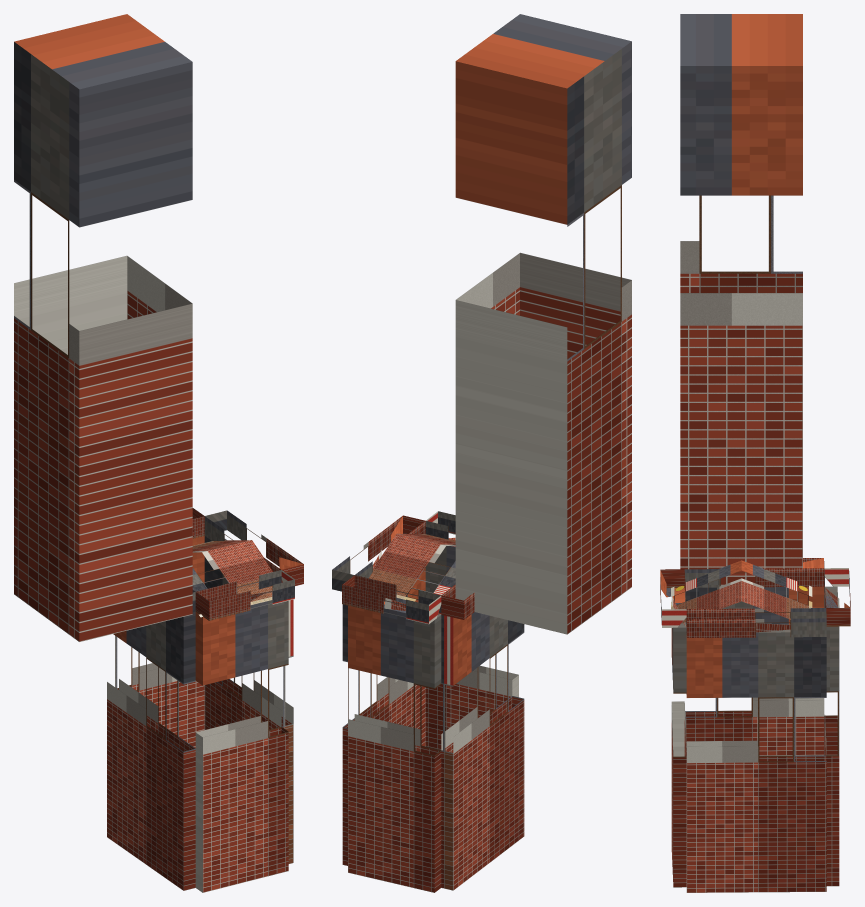
The picture shows the model from 3 angles, left to right: view 1: azimuth 30°, elevation 25°; view 2: azimuth 150°, elevation 25°; view 3: azimuth 270°, elevation 25°; orthographic projection. The views are drawn at different scales.
Parts seen in each view (by area): view 1: 1106965478__chimney_0_xb, 1106965478__wall_0_xb, 1106965478__wall_1_xb, 1106965478__wall_3_xb, 1106965478__wall_2_xb, 1106965478_roof_-1_xb, 1106965478__cornice_0, 1106965478__cornice_3; view 2: 1106965478__chimney_0_xb, 1106965478__wall_2_xb, 1106965478__wall_1_xb, 1106965478__wall_0_xb, 1106965478__wall_3_xb, 1106965478_roof_1_xb, 1106965478__cornice_2, 1106965478__cornice_3, 1106965478__cornice_1, 1106965478__cornice_0; view 3: 1106965478__chimney_0_xb, 1106965478__wall_3_xb, 1106965478__wall_1_xb, 1106965478__wall_0_xb, 1106965478__wall_2_xb, 1106965478__cornice_3, 1106965478_roof_1_xb, 1106965478_roof_-1_xb, 1106965478__cornice_1, 1106965478__cornice_2, 1106965478__cornice_0.
Boxes of the visible parts, x1,y1,x2,y2 form: 1106965478__chimney_0_xb: (14,14,192,641); 1106965478__wall_0_xb: (195,600,288,892); 1106965478__wall_1_xb: (107,611,195,890); 1106965478__wall_3_xb: (204,536,293,863); 1106965478__wall_2_xb: (117,536,204,748); 1106965478_roof_-1_xb: (192,540,272,617); 1106965478__cornice_0: (195,570,294,620); 1106965478__cornice_3: (204,510,303,585); 1106965478__chimney_0_xb: (455,14,631,634); 1106965478__wall_2_xb: (348,601,441,892); 1106965478__wall_1_xb: (441,612,524,890); 1106965478__wall_0_xb: (425,546,518,749); 1106965478__wall_3_xb: (342,568,425,865); 1106965478_roof_1_xb: (369,534,455,601); 1106965478__cornice_2: (342,575,441,624); 1106965478__cornice_3: (332,515,425,591); 1106965478__cornice_1: (441,584,474,619); 1106965478__cornice_0: (425,511,455,546); 1106965478__chimney_0_xb: (680,14,802,585); 1106965478__wall_3_xb: (686,629,826,892); 1106965478__wall_1_xb: (685,585,824,755); 1106965478__wall_0_xb: (671,588,686,887); 1106965478__wall_2_xb: (824,586,839,886); 1106965478__cornice_3: (686,608,826,637); 1106965478_roof_1_xb: (741,560,812,619); 1106965478_roof_-1_xb: (671,560,741,623); 1106965478__cornice_1: (684,558,824,587); 1106965478__cornice_2: (824,568,850,626); 1106965478__cornice_0: (660,569,686,627).
Size of the model in its own units: 0.3023 by 1.05 by 0.2328.
Materials: 1 (1 with a texture image).
